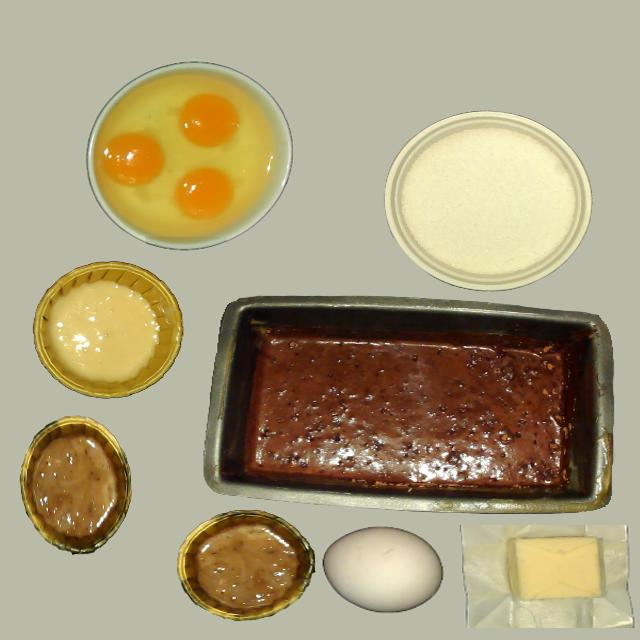Egg: (179, 93, 240, 148), (100, 133, 163, 185), (174, 167, 233, 219)
Sugar: (386, 112, 590, 292)
